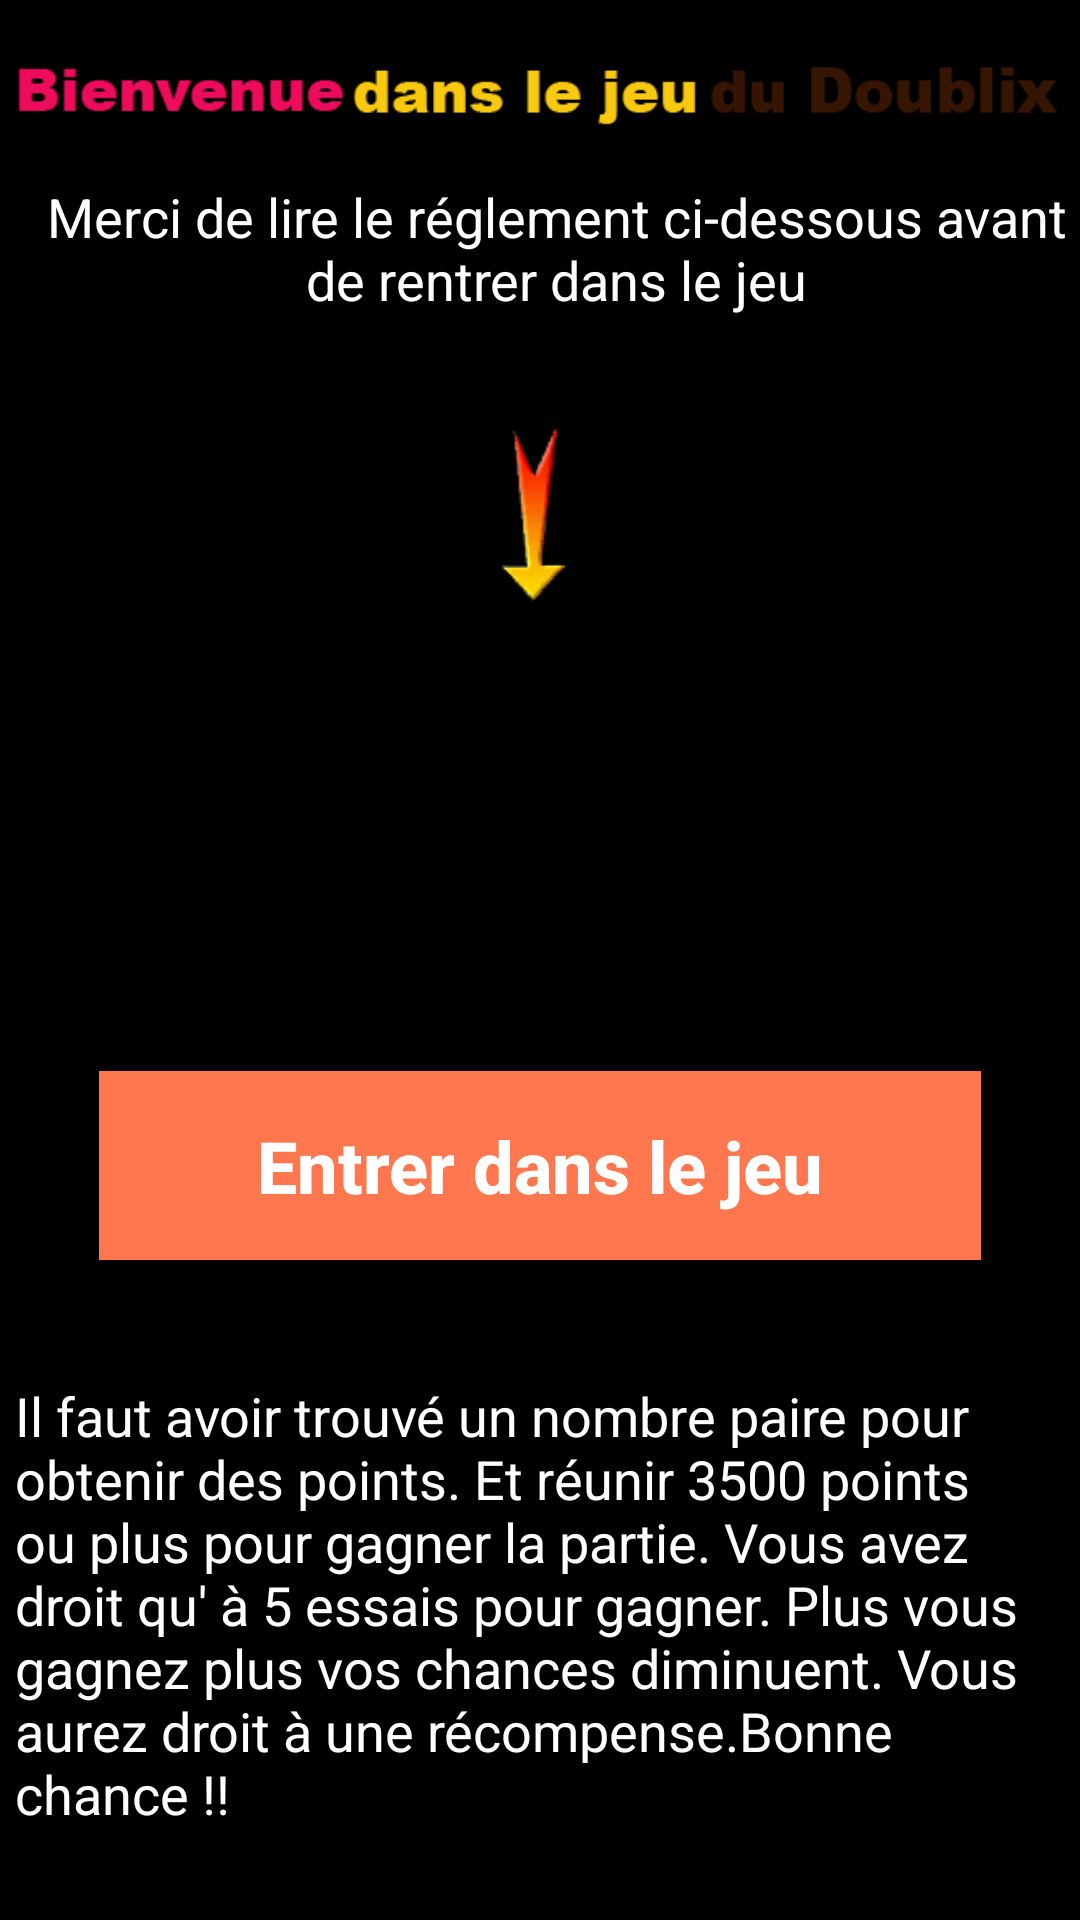

Point at icon controls on the screen. Image size 1080w x 1920h, points as [x,y].
fleche: [534,514]
